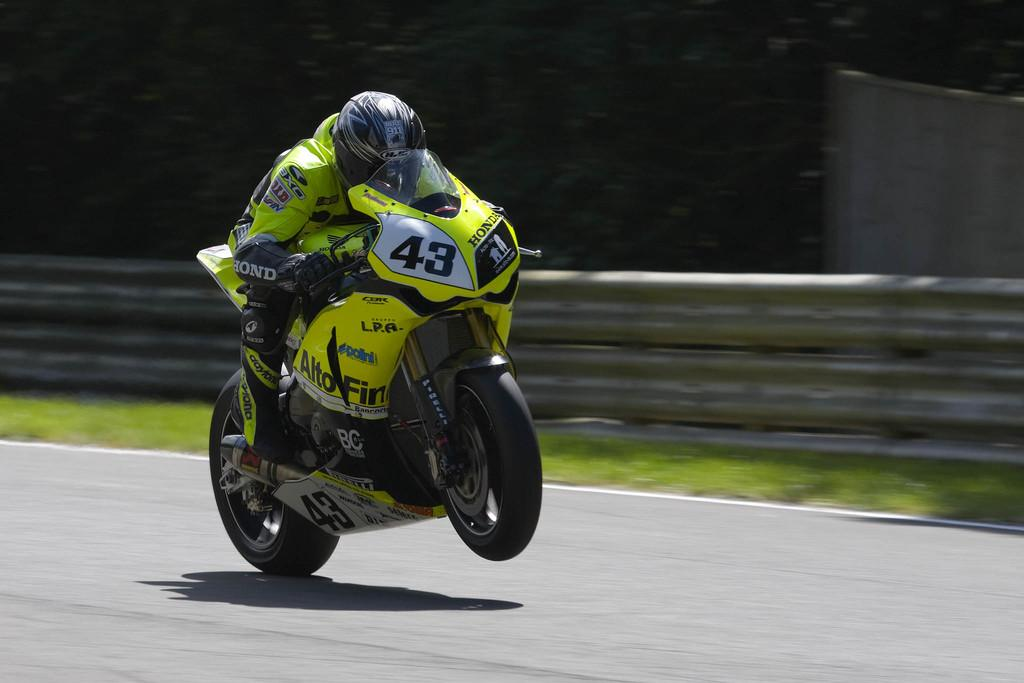helmet: (331, 90, 427, 216)
